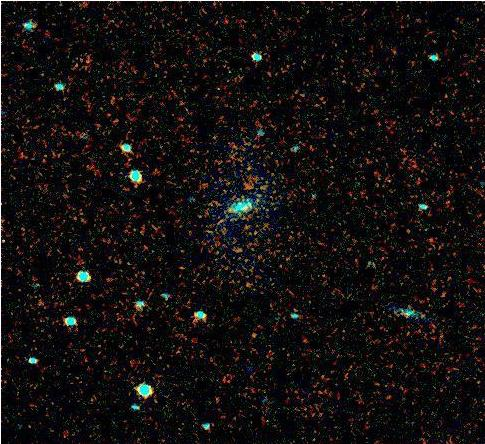star: (235, 148, 265, 178)
